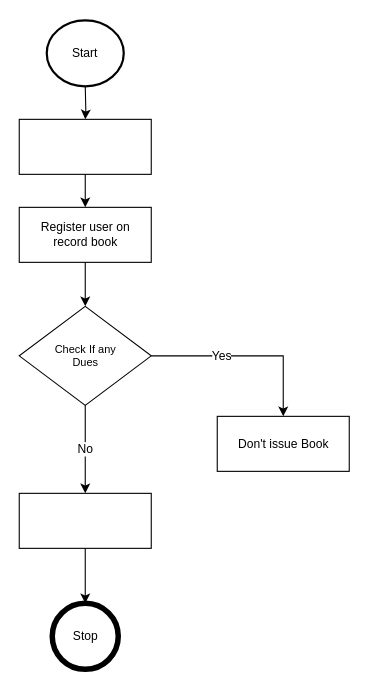
The diagram is 369 pixels wide and 691 high, and some of its shapes have lost their labels. The centre of each missing label's shape, as x and y in pixels:
Issue Book: pixel 84 520
Open Record Book: pixel 84 146
